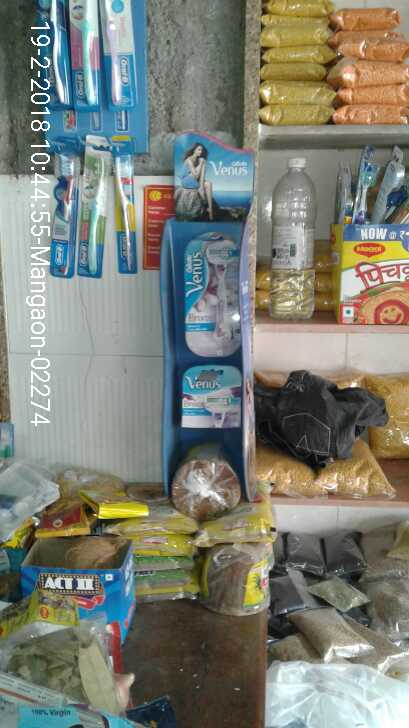beauty: (181, 229, 246, 357), (178, 361, 248, 432)
pharmacy: (104, 134, 144, 274), (42, 134, 80, 281), (78, 135, 113, 277)
